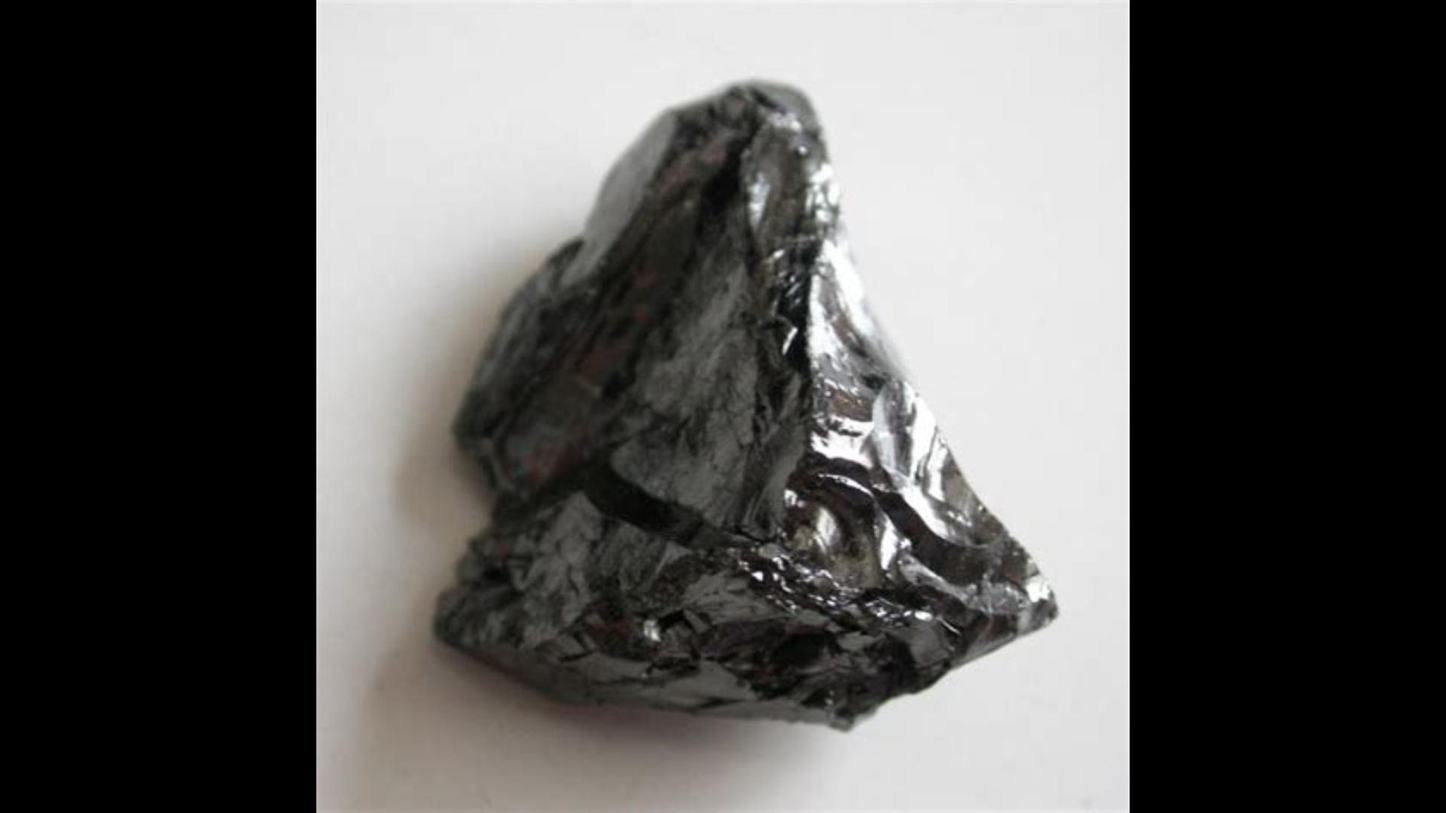rock: (436, 84, 1056, 726)
